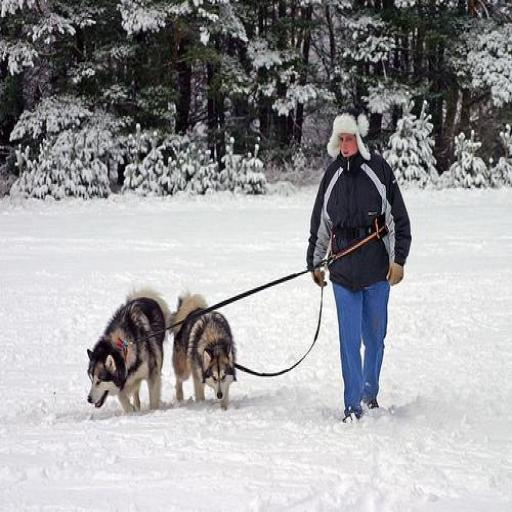dog_face: (81, 348, 121, 414), (202, 348, 239, 406)
